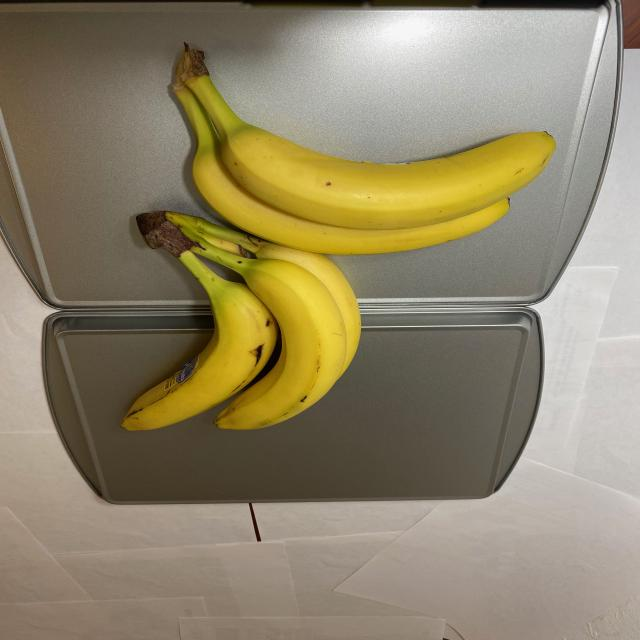banana: (112, 57, 557, 434)
